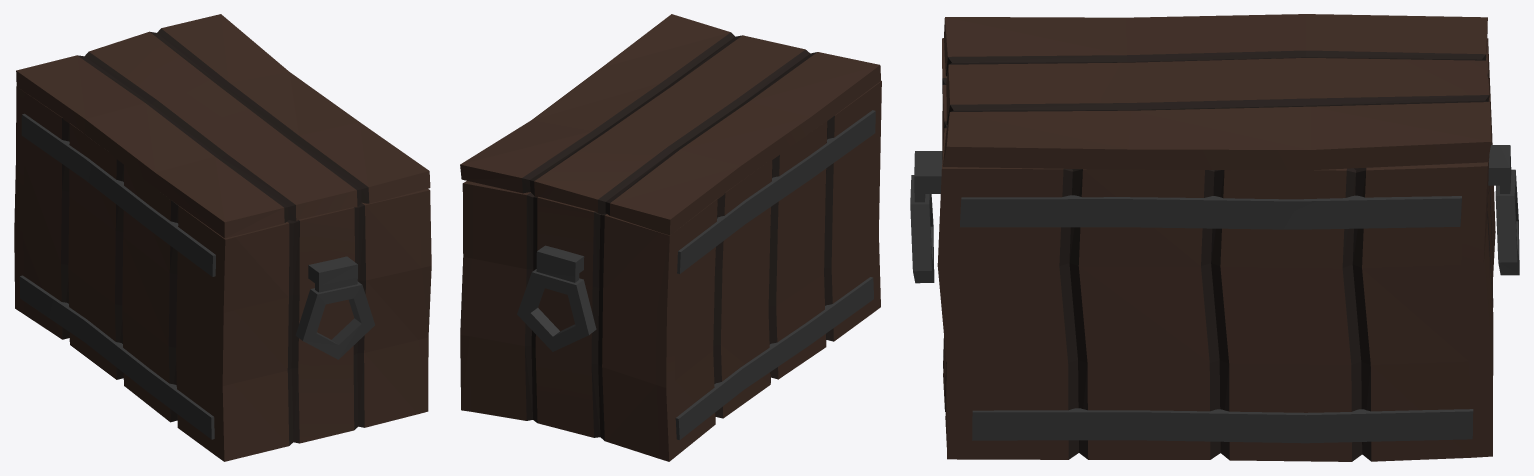
File: SM_crate.fbx
The picture shows the model from 3 angles, left to right: view 1: azimuth 30°, elevation 25°; view 2: azimuth 150°, elevation 25°; view 3: azimuth 270°, elevation 25°; orthographic projection. The views are drawn at different scales.
Parts seen in each view (by area): view 1: Box067; view 2: Box067; view 3: Box067.
Boxes of the visible parts, bbox=[...] form: Box067: bbox=[14, 14, 431, 461]; Box067: bbox=[460, 14, 881, 461]; Box067: bbox=[910, 14, 1519, 461].
Bounding box in the file's own units: 88.16 × 98.13 × 168.
